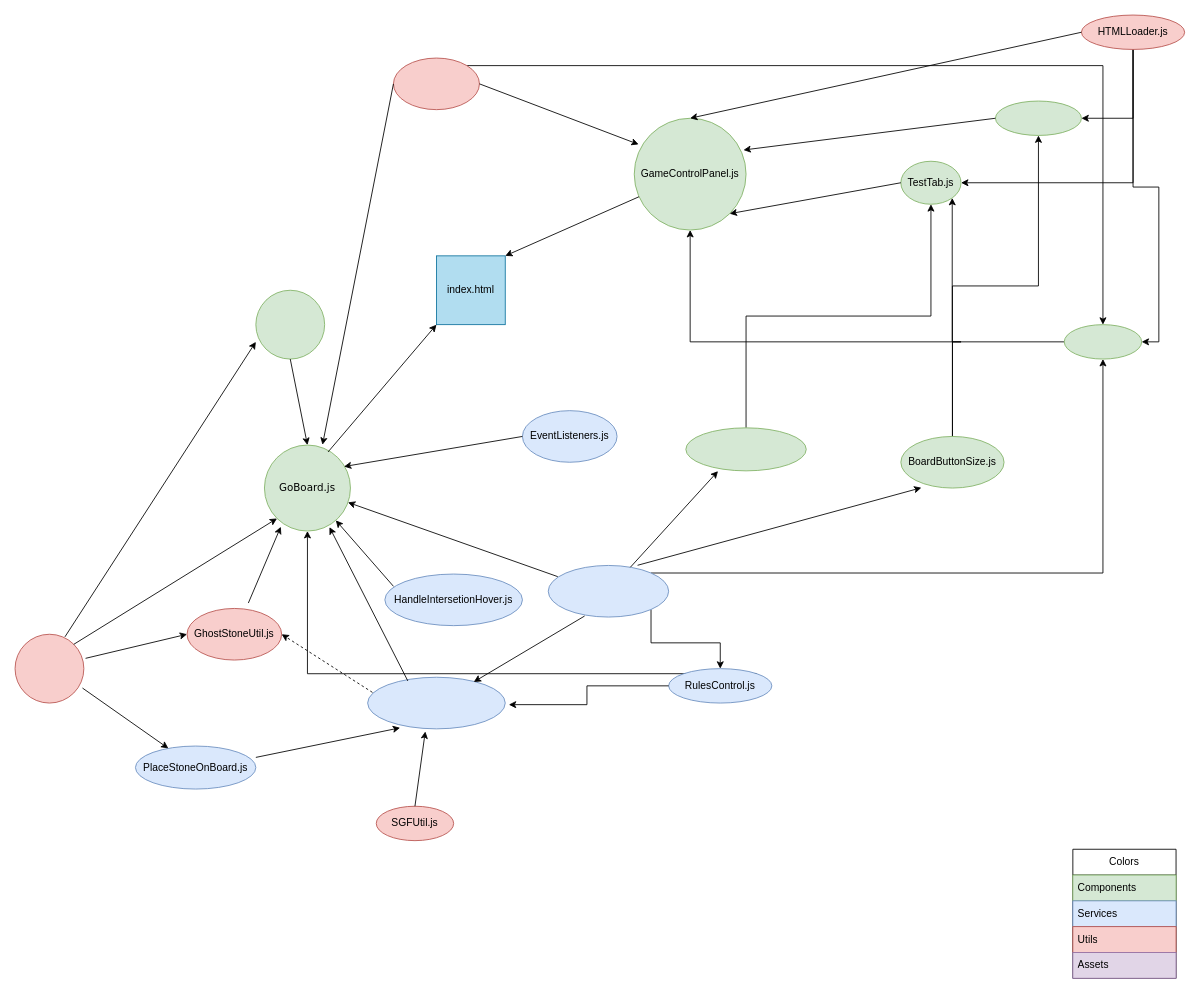
Image size: 1200x993. Some labels were removed from this diagram. The box of each missing label's shape, as (x1, y1, x2, y2) in pixels:
constants.js: (14, 633, 84, 703)
GameStateManager.js: (547, 565, 669, 617)
HandleIntersectionClick.js: (367, 676, 505, 729)
SGFDownloadButton.js: (685, 427, 806, 471)
StarterTab.js: (995, 100, 1081, 135)
StyleLoader.js: (393, 57, 479, 110)
SVGBoard.js: (255, 289, 325, 359)
TimerTab.js: (1063, 324, 1142, 359)
